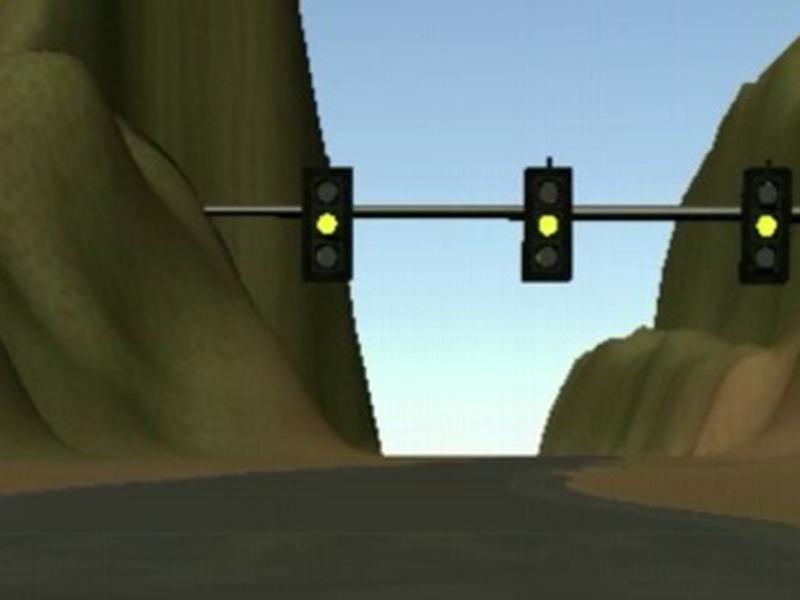Yellow: (738, 166, 791, 287), (303, 165, 354, 281), (521, 166, 571, 284)
